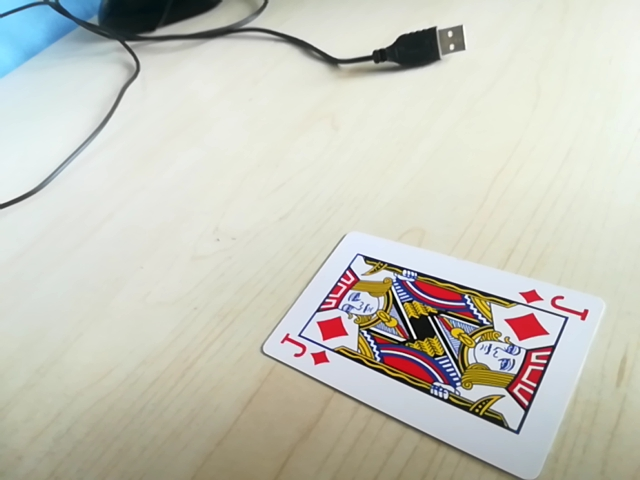fk j: (517, 287, 586, 319), (272, 336, 335, 369)
